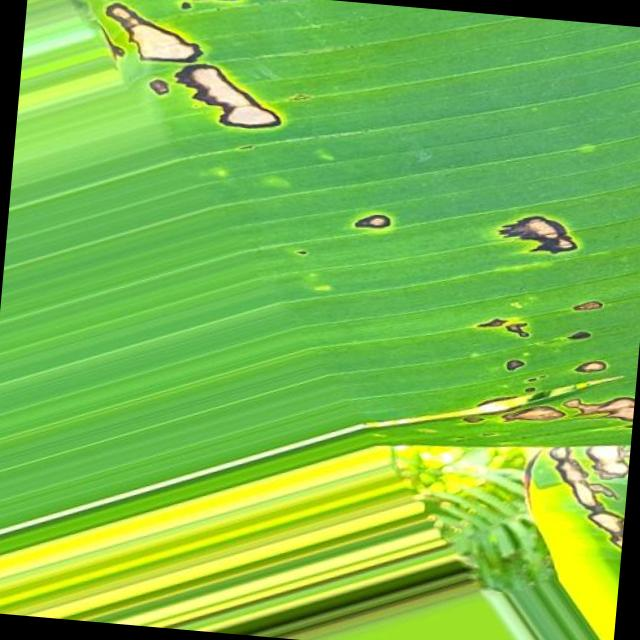Banana_Black_Sigatoka: (300, 153, 640, 540), (57, 0, 333, 154)
